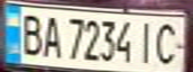2: (81, 16, 100, 62)
3: (100, 17, 118, 63)
4: (115, 17, 136, 64)
7: (63, 15, 84, 61)
A: (36, 12, 63, 60)
B: (15, 10, 45, 57)
C: (151, 19, 184, 66)
I: (133, 18, 157, 65)
